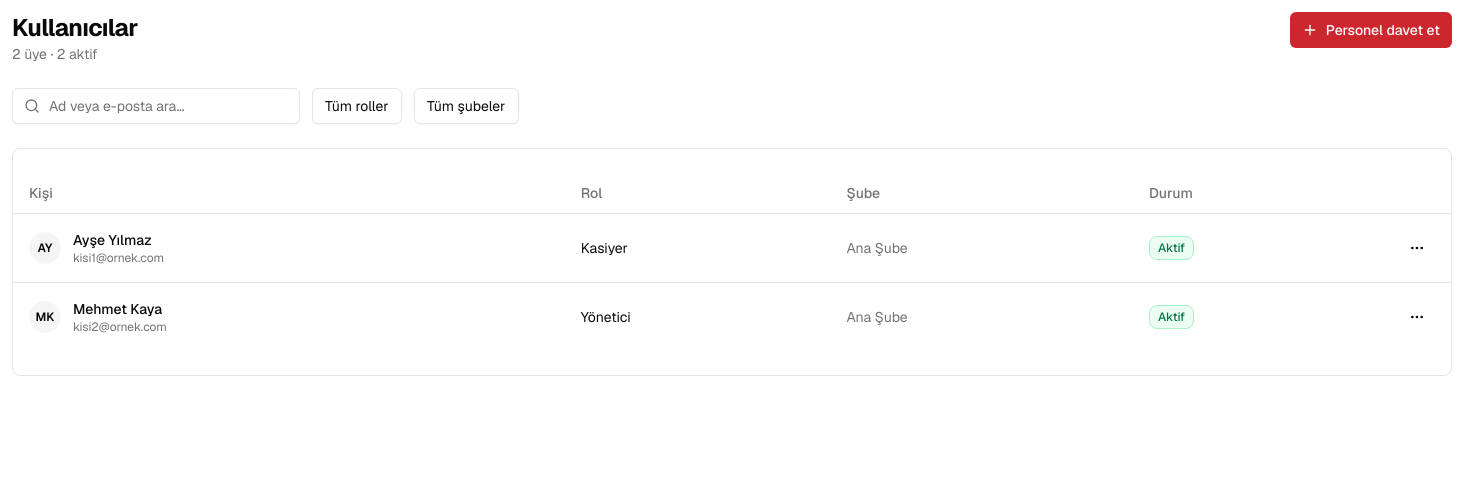
Test: UsersPage › narrows the table with the search box and role filter
This screenshot has width=1464, height=495.
Check: the text "Ayşe Yılmaz" is shown, box [73,230,164,250]
Type "mehmet" into the field labelled "Ad veya e-posta ara" at (156, 106), box [12,88,300,124]
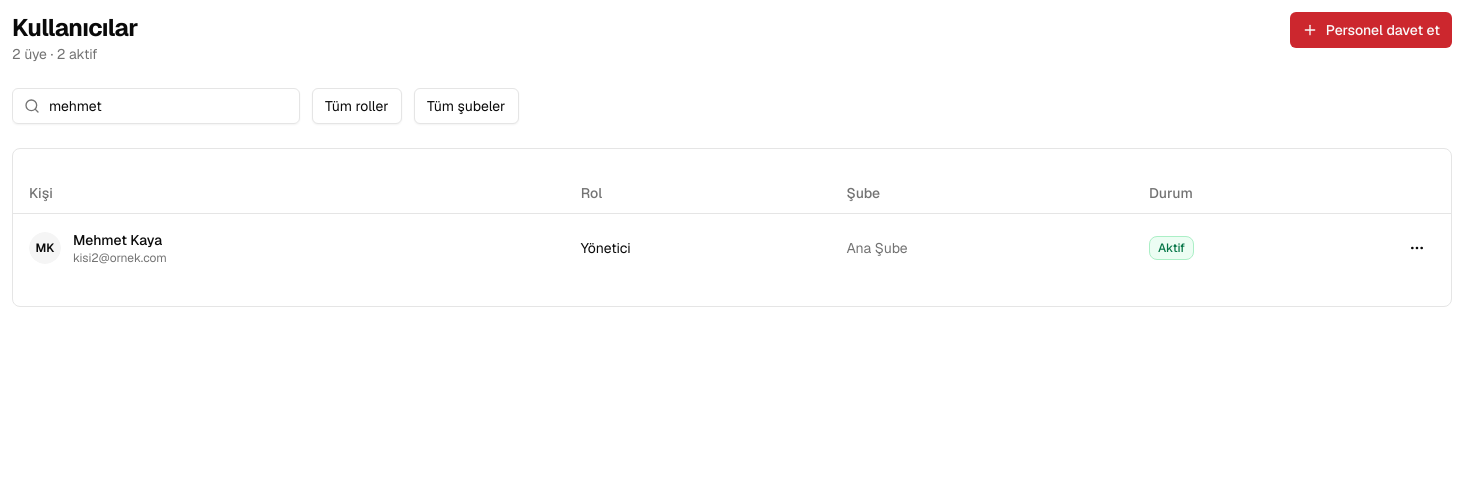
Check: the text "Mehmet Kaya" is shown, box [73,230,167,250]
Check: the text "Ayşe Yılmaz" is gone
Clear the field named "Ad veya e-posta ara" at (156, 106), box [12,88,300,124]
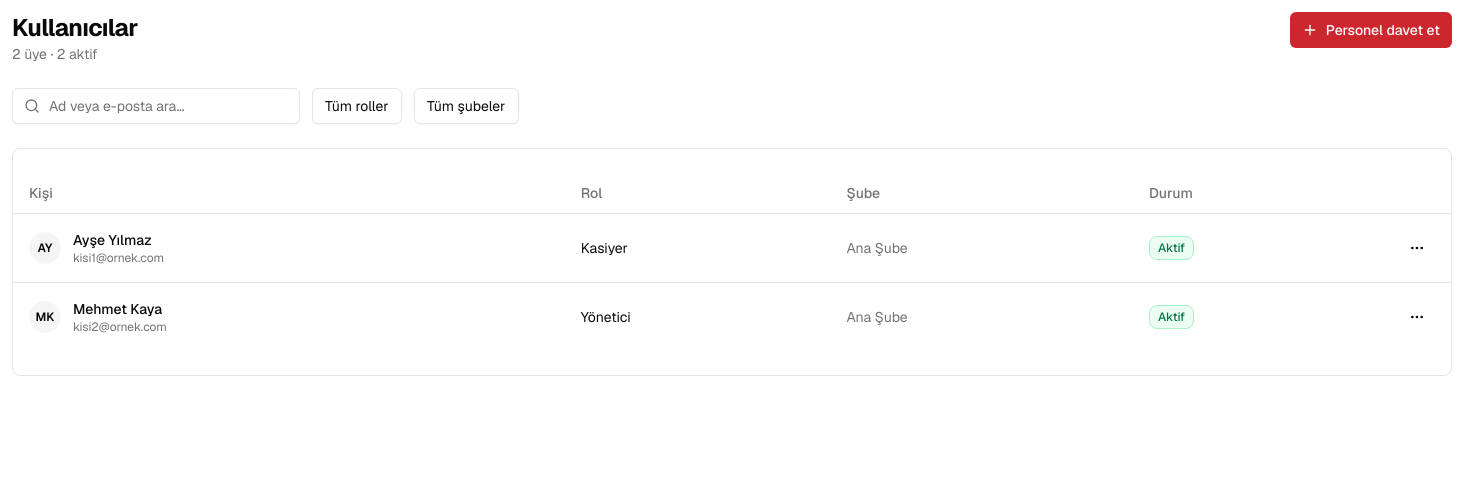
Select "Kasiyer" in the dropdown named "Rol süzgeci" at (357, 106), box [312,88,402,124]
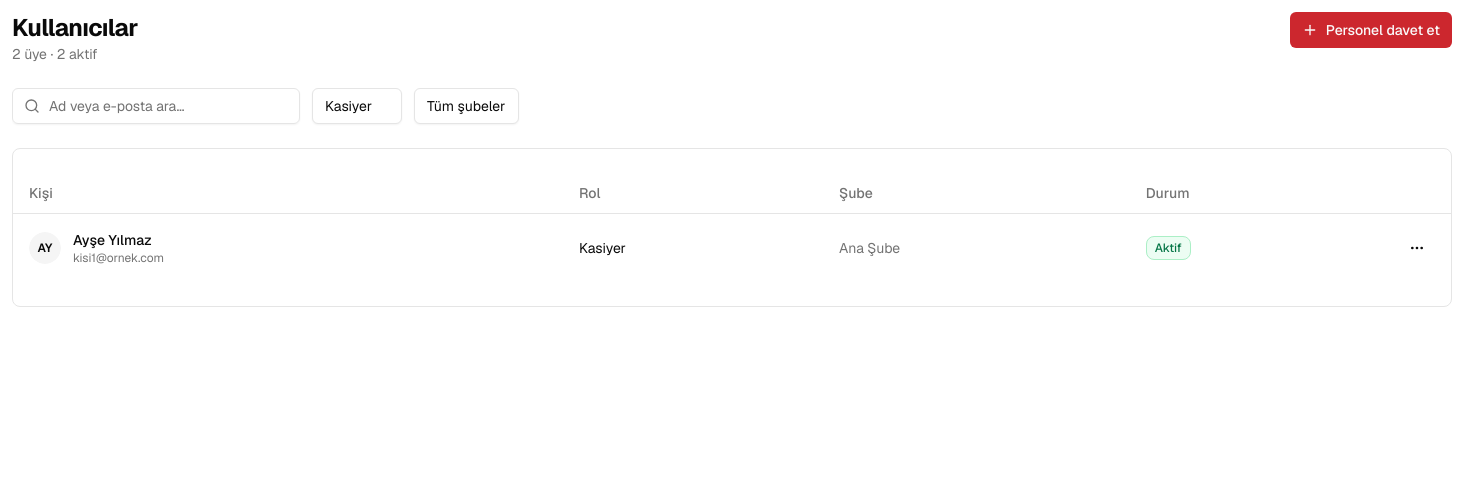
Check: the text "Ayşe Yılmaz" is shown, box [73,230,164,250]
Check: the text "Mehmet Kaya" is gone
Select "Yönetici" in the dropdown named "Rol süzgeci" at (357, 106), box [312,88,402,124]
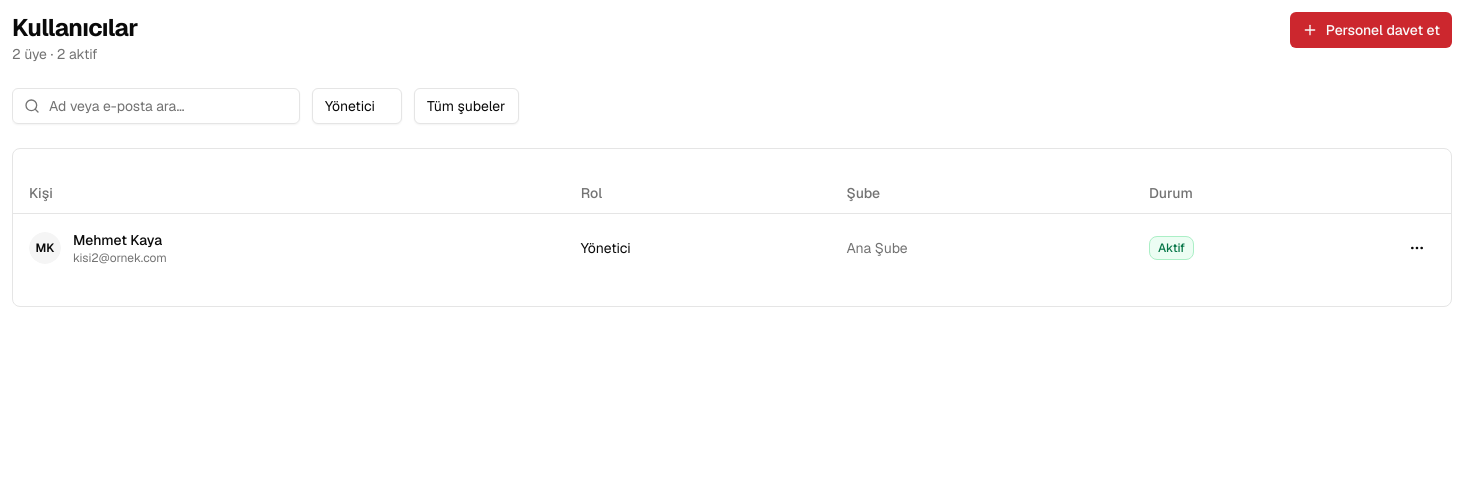
Type "yok" into the field labelled "Ad veya e-posta ara" at (156, 106), box [12,88,300,124]
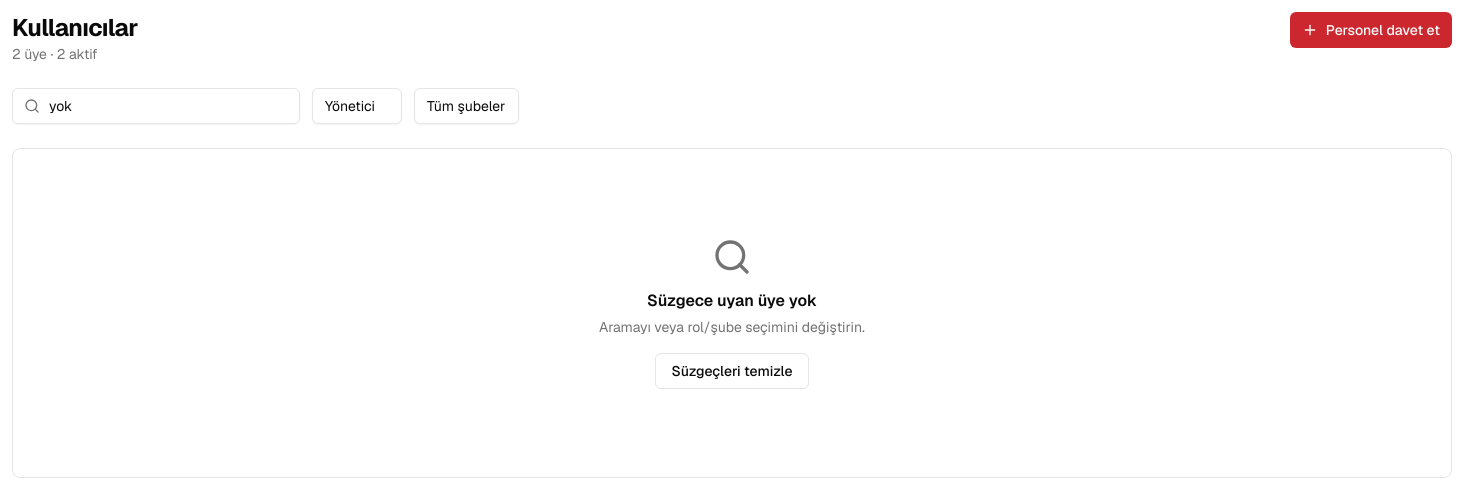
Check: the heading "Süzgece uyan üye yok" is shown, box [647,289,817,313]
Click the button "Süzgeçleri temizle" at (732, 371), box [654,353,810,389]
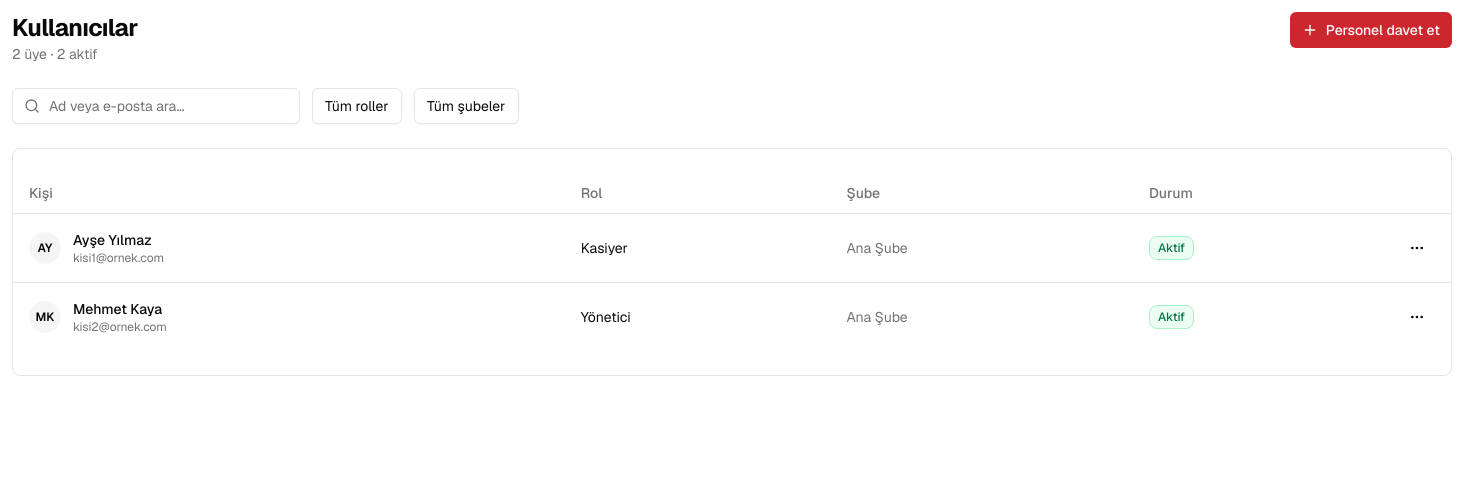
Check: the text "Mehmet Kaya" is shown, box [73,298,167,318]
